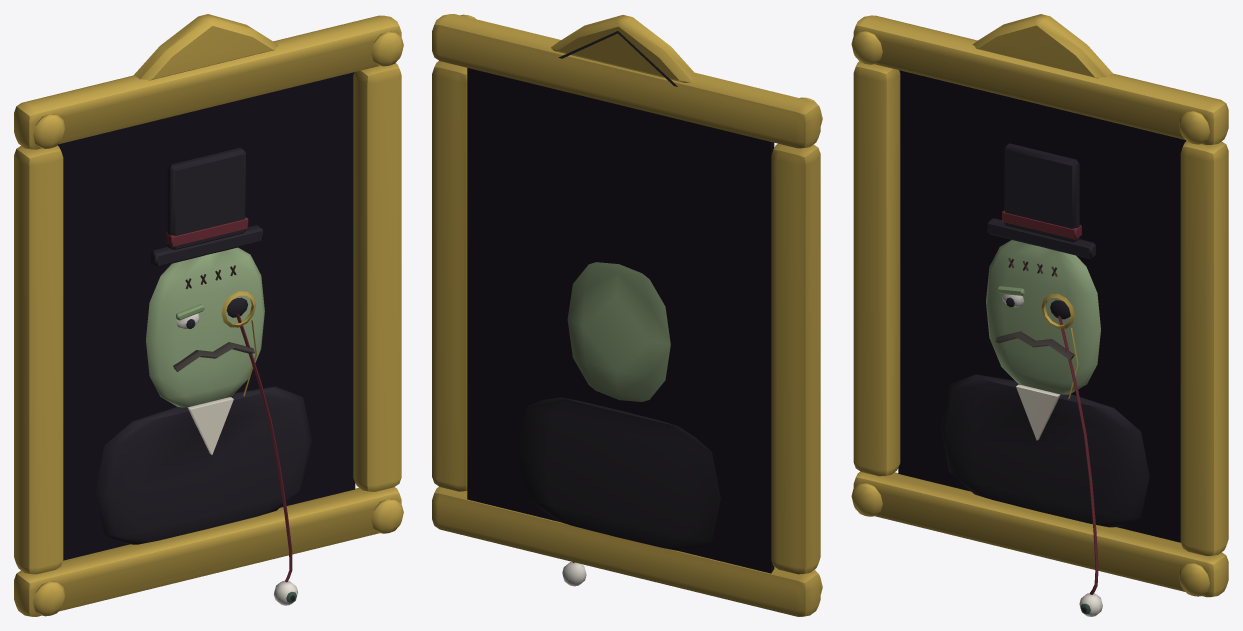
Rendered from painting_greatgrand.glb.
3 renders of one model, left to right at view 1: azimuth 30°, elevation 25°; view 2: azimuth 150°, elevation 25°; view 3: azimuth 330°, elevation 25°, orthographic. The views are drawn at different scales.
Visible parts, largest first — view 1: painting_greatgrand; view 2: painting_greatgrand; view 3: painting_greatgrand.
Part boxes in pixels (bbox=[...]): painting_greatgrand: bbox=[14, 14, 403, 616]; painting_greatgrand: bbox=[432, 14, 822, 616]; painting_greatgrand: bbox=[851, 14, 1228, 616].
Bounding box in the file's own units: 0.7 × 1.05 × 0.0987.
